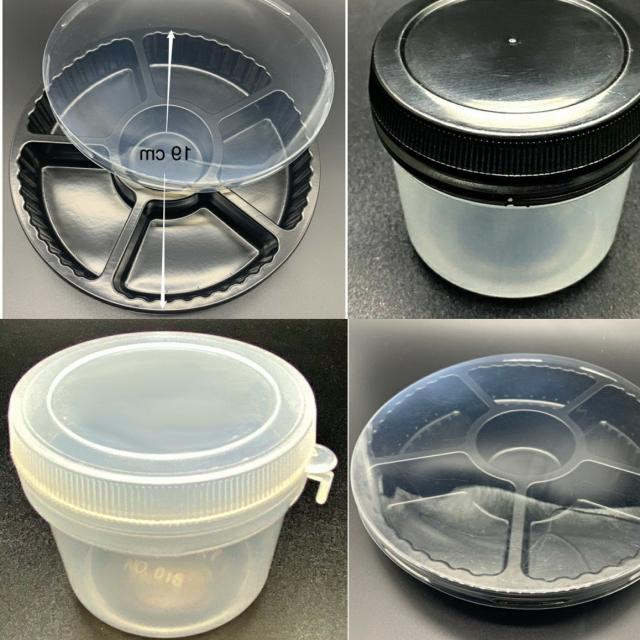plastik: (9, 331, 337, 638), (11, 32, 319, 312), (370, 0, 640, 298), (352, 353, 640, 609), (44, 0, 332, 192)
